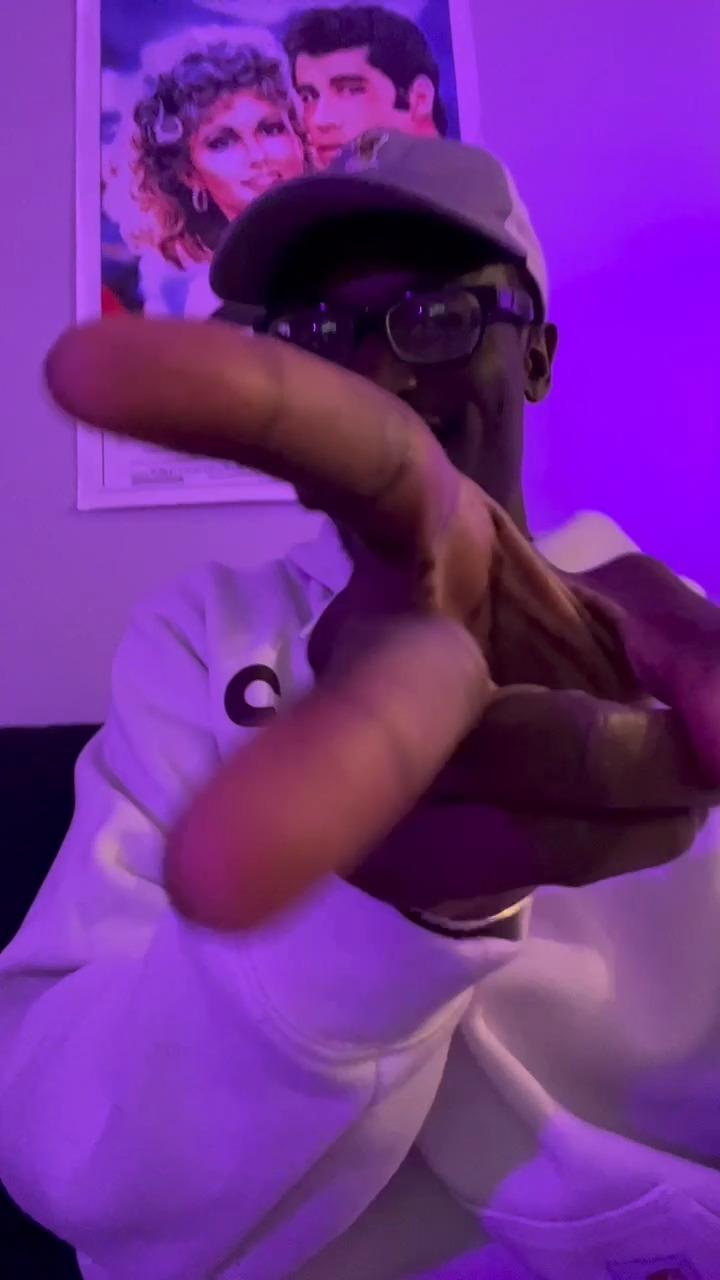Scissors: (34, 310, 720, 946)
